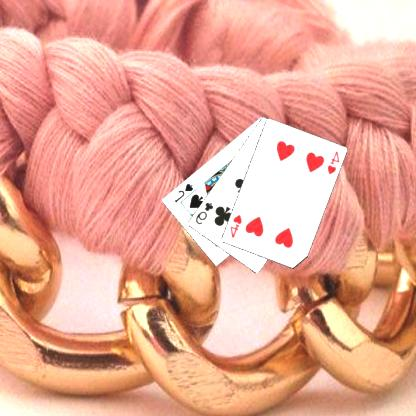4H: (326, 148, 342, 176), (229, 212, 245, 239)
6C: (194, 200, 216, 226)
JS: (173, 180, 196, 204)
